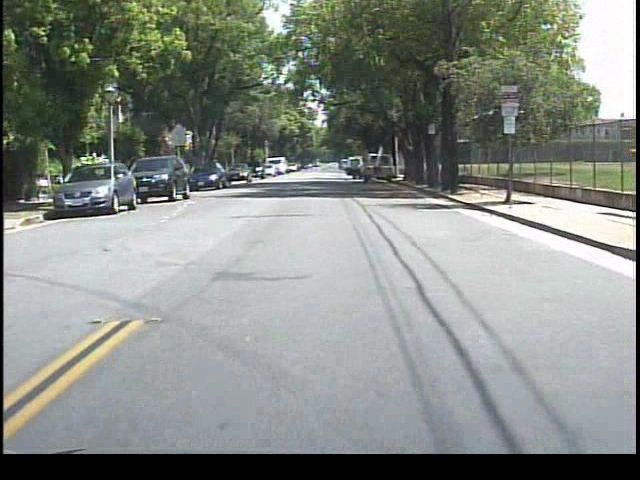person: (346, 157, 362, 182)
